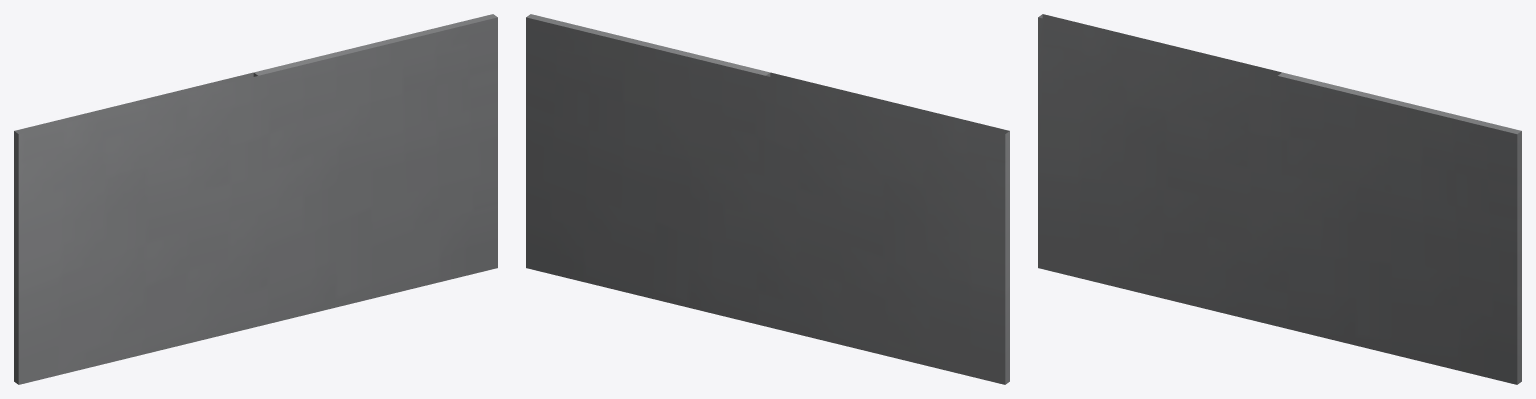
The model's file is pared 1 nivel 1.fbx.
3 renders of one model, left to right at view 1: azimuth 30°, elevation 25°; view 2: azimuth 150°, elevation 25°; view 3: azimuth 330°, elevation 25°, orthographic.
Visible parts, largest first — view 1: Pared nivel 1.001; view 2: Pared nivel 1.001; view 3: Pared nivel 1.001.
Boxes of the visible parts, x1,y1,x2,y2 form: Pared nivel 1.001: [14, 14, 497, 384]; Pared nivel 1.001: [526, 14, 1009, 384]; Pared nivel 1.001: [1038, 14, 1521, 384].
Bounding box in the file's own units: 600 × 300 × 10.
1 material, 1 textured.
